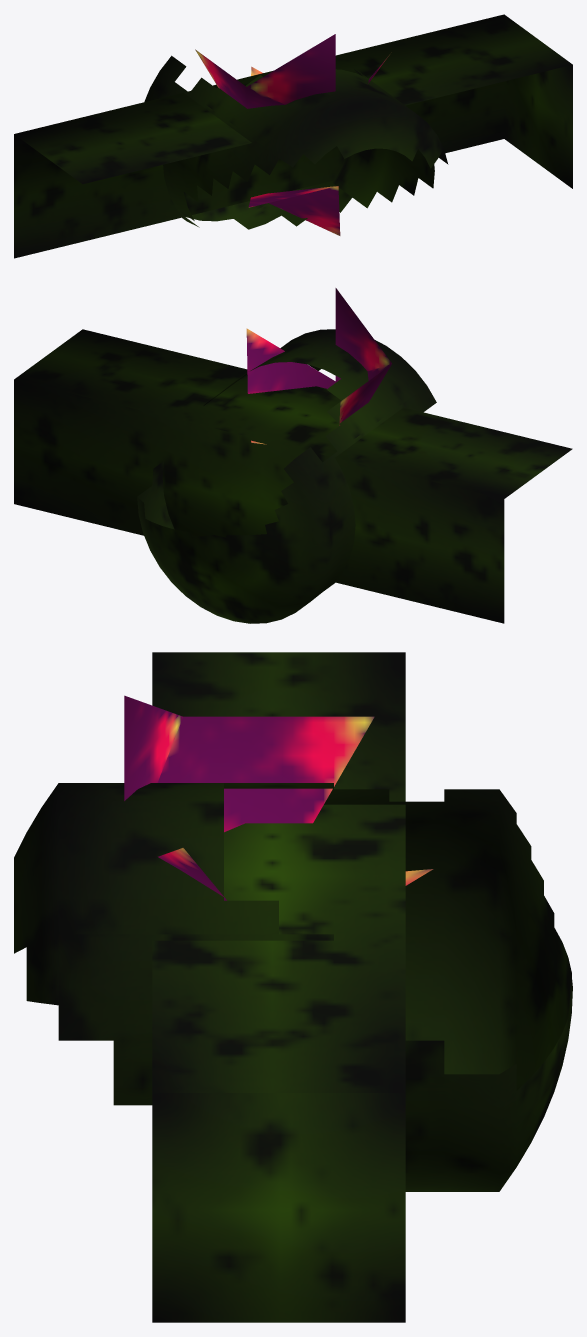
The model's file is BlurbBomberDestructionPart3.fbx.
3 renders of one model, top to bottom at view 1: azimuth 30°, elevation 25°; view 2: azimuth 150°, elevation 25°; view 3: azimuth 270°, elevation 25°, orthographic. The views are drawn at different scales.
Parts seen in each view (by area): view 1: BlurbBomber; view 2: BlurbBomber; view 3: BlurbBomber.
Boxes of the visible parts, bbox=[...] form: BlurbBomber: bbox=[14, 14, 572, 258]; BlurbBomber: bbox=[14, 288, 572, 623]; BlurbBomber: bbox=[14, 652, 572, 1322].
Size of the model in its own units: 824 by 434 by 442.
1 material, 1 textured.
